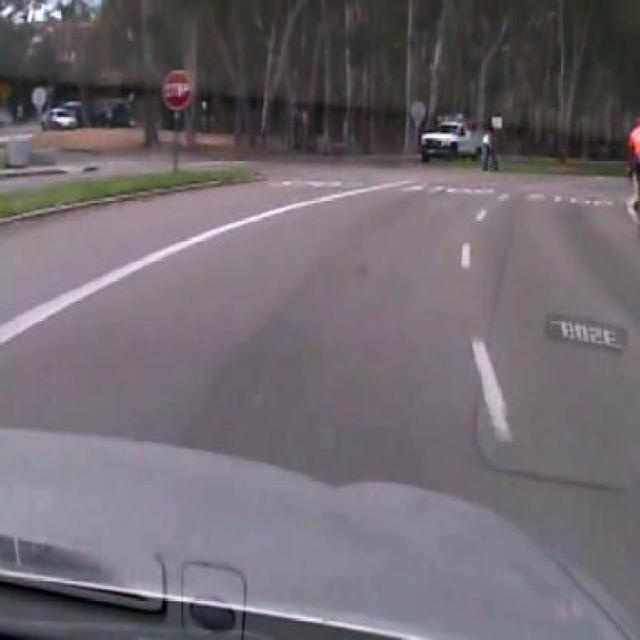Stop: (160, 68, 194, 114)
